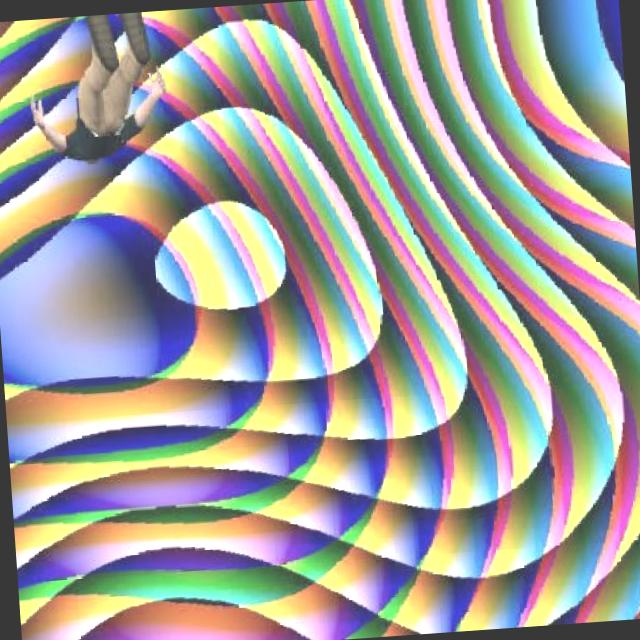Person: (22, 10, 172, 174)
